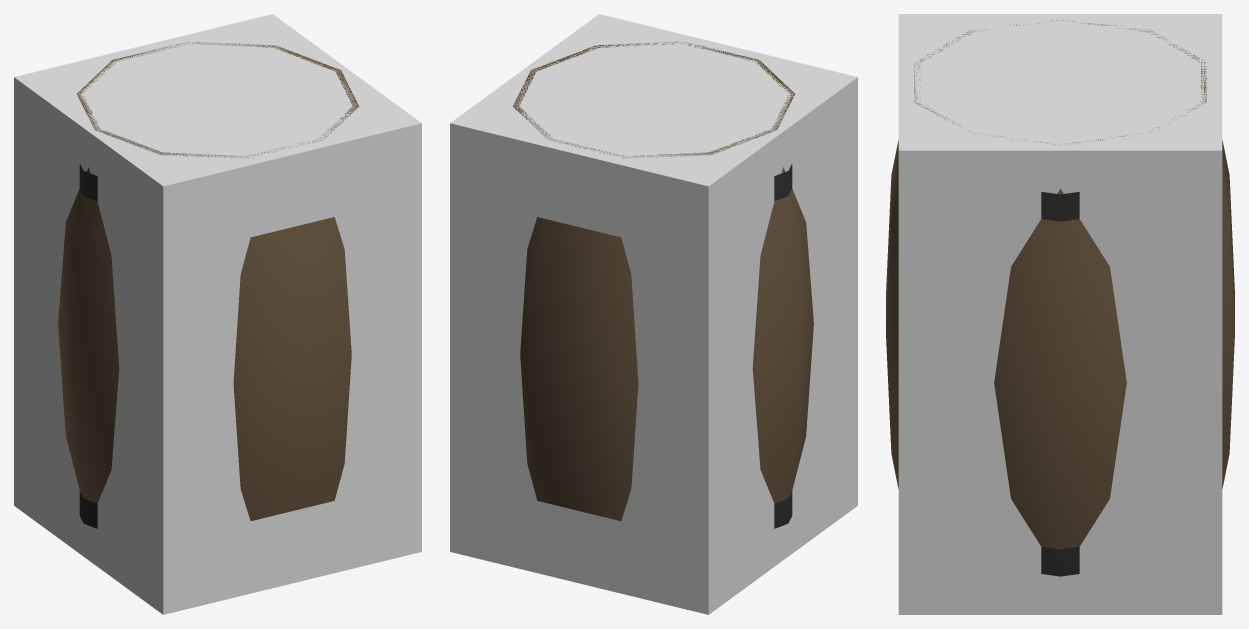
Rendered from barrel.glb.
3 renders of one model, left to right at view 1: azimuth 30°, elevation 25°; view 2: azimuth 150°, elevation 25°; view 3: azimuth 270°, elevation 25°, orthographic. The views are drawn at different scales.
Visible parts, largest first — view 1: COL_barrel, barrel; view 2: COL_barrel, barrel; view 3: COL_barrel, barrel.
Part boxes in pixels (box(x1,y1,x2,y2)): COL_barrel: box(14, 14, 421, 614); barrel: box(58, 42, 359, 528); COL_barrel: box(450, 14, 857, 614); barrel: box(512, 41, 813, 528); COL_barrel: box(898, 14, 1222, 614); barrel: box(886, 20, 1234, 576).
Bounding box in the file's own units: 0.68 × 0.95 × 0.6467.
